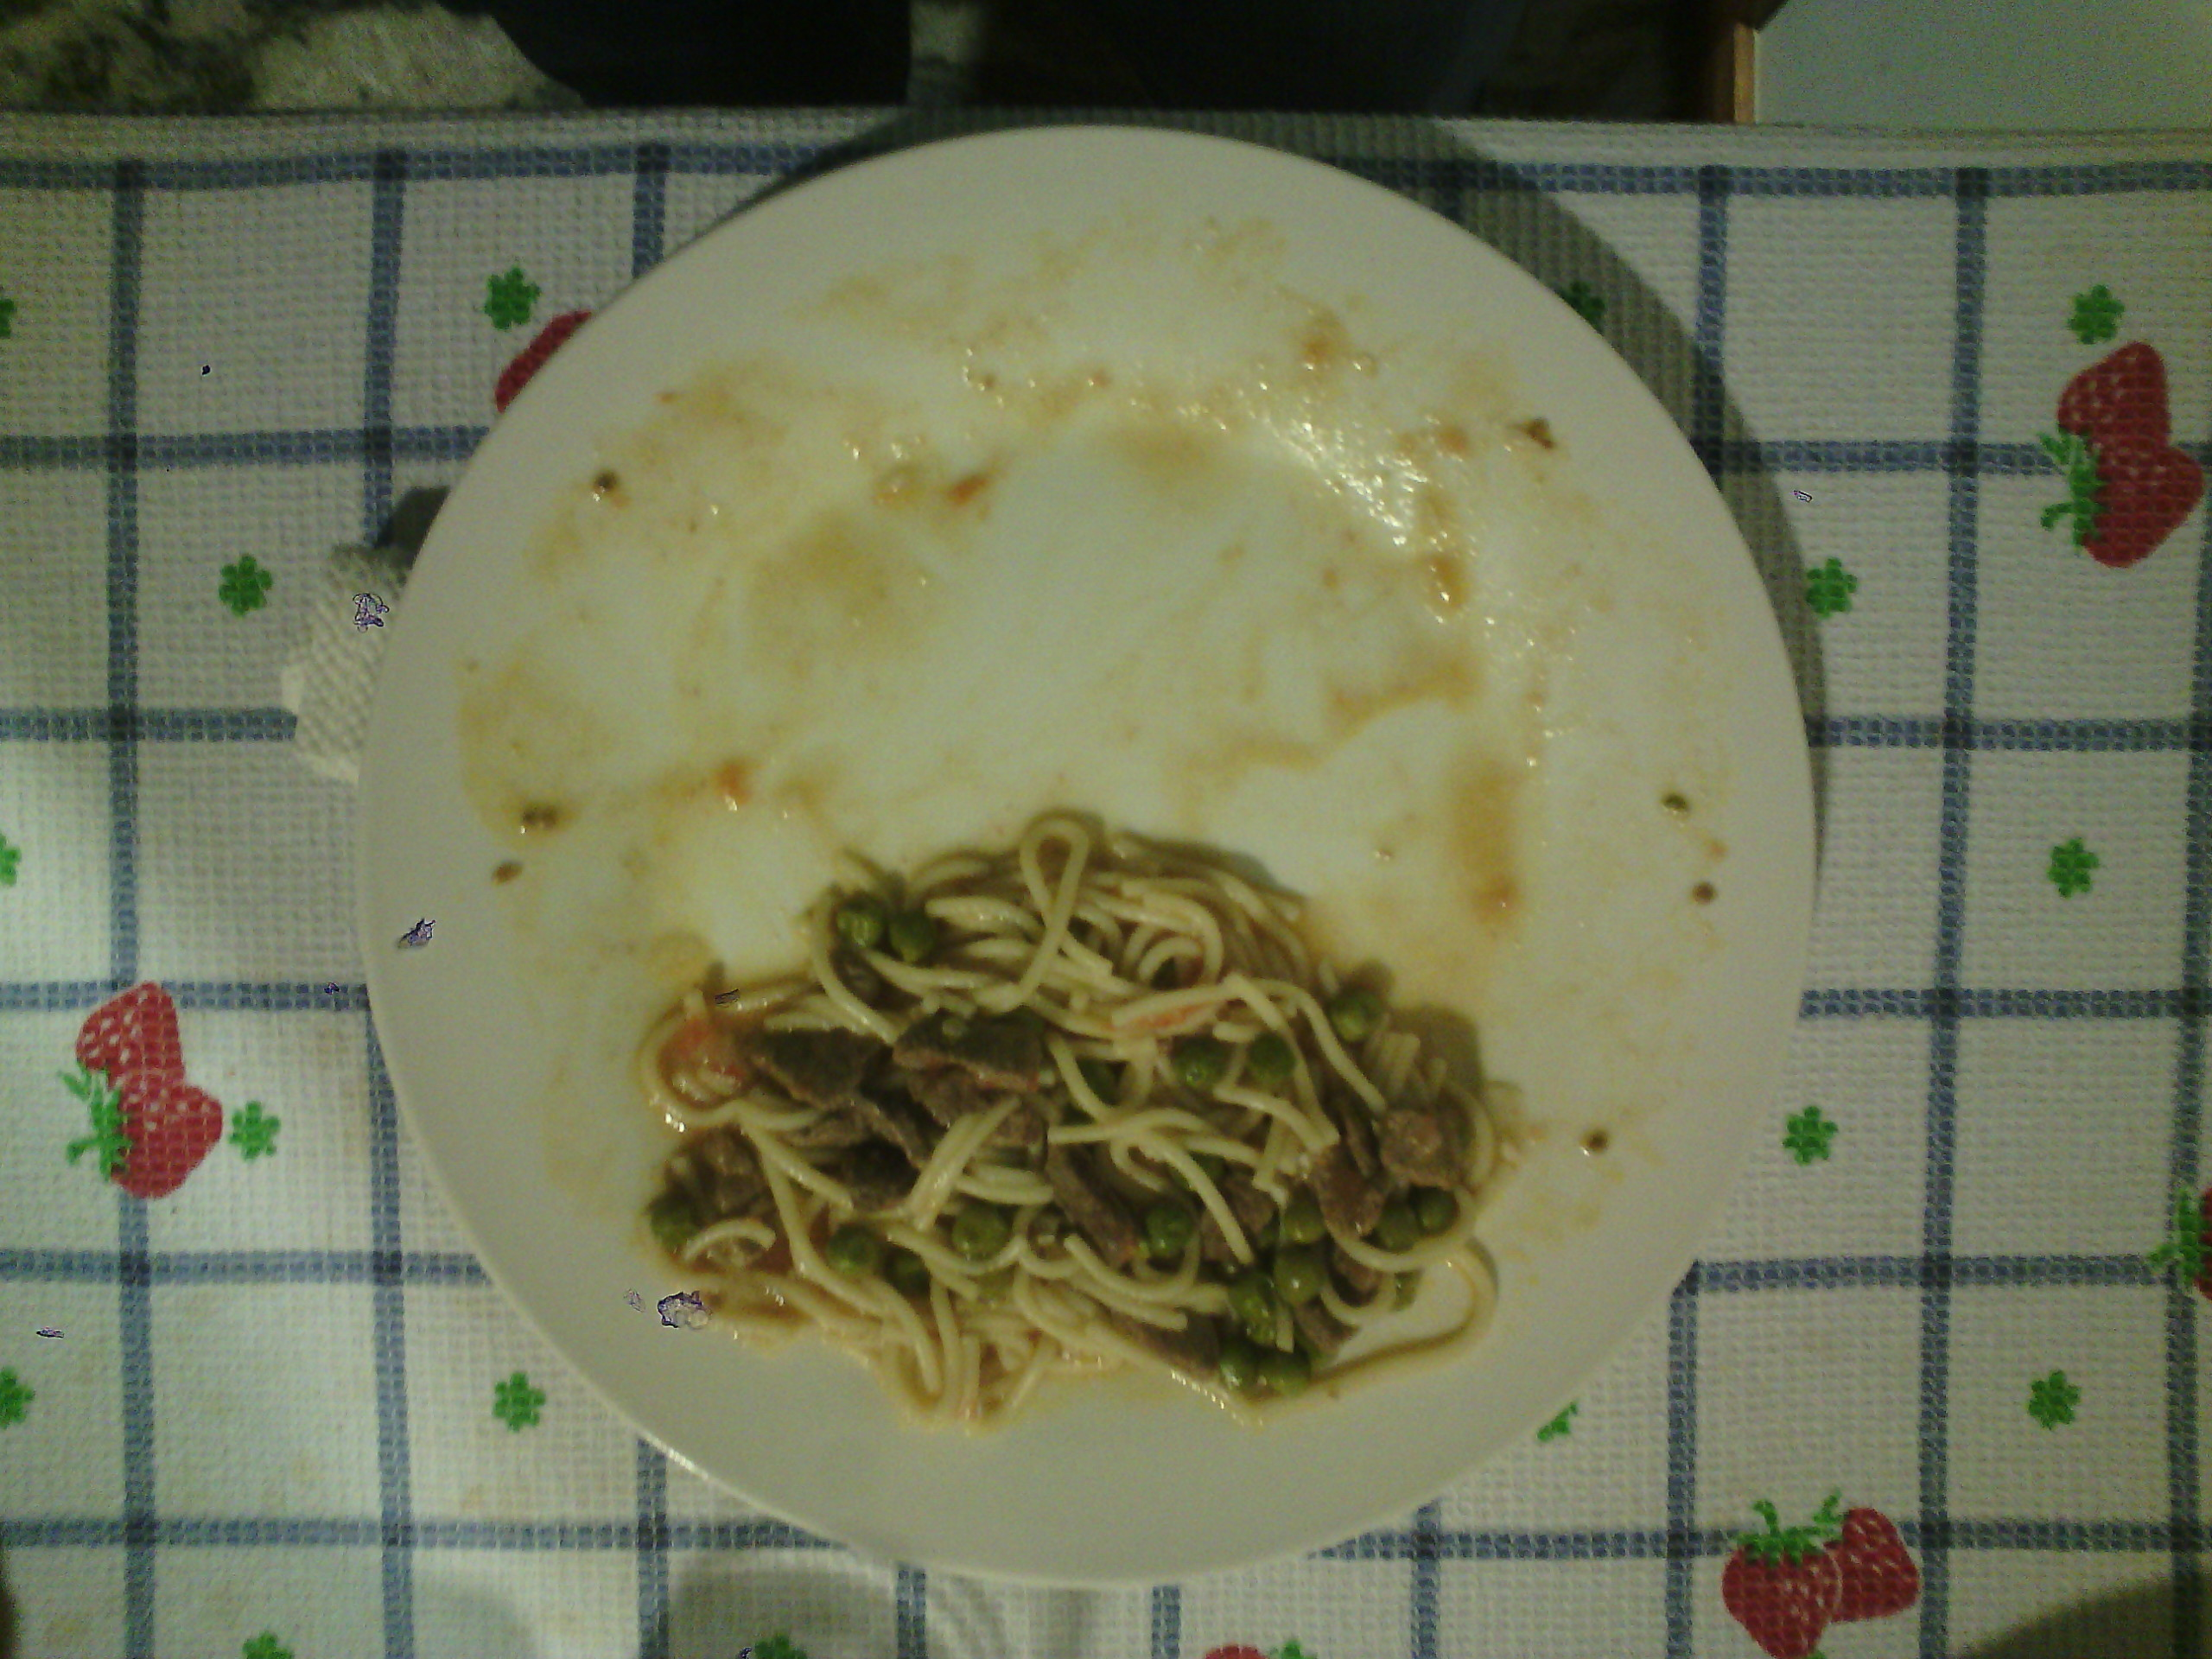21-40: (357, 122, 1822, 1596)
